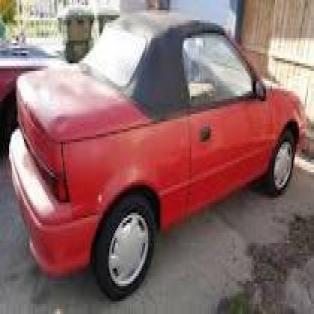Auto: (10, 10, 304, 294)
